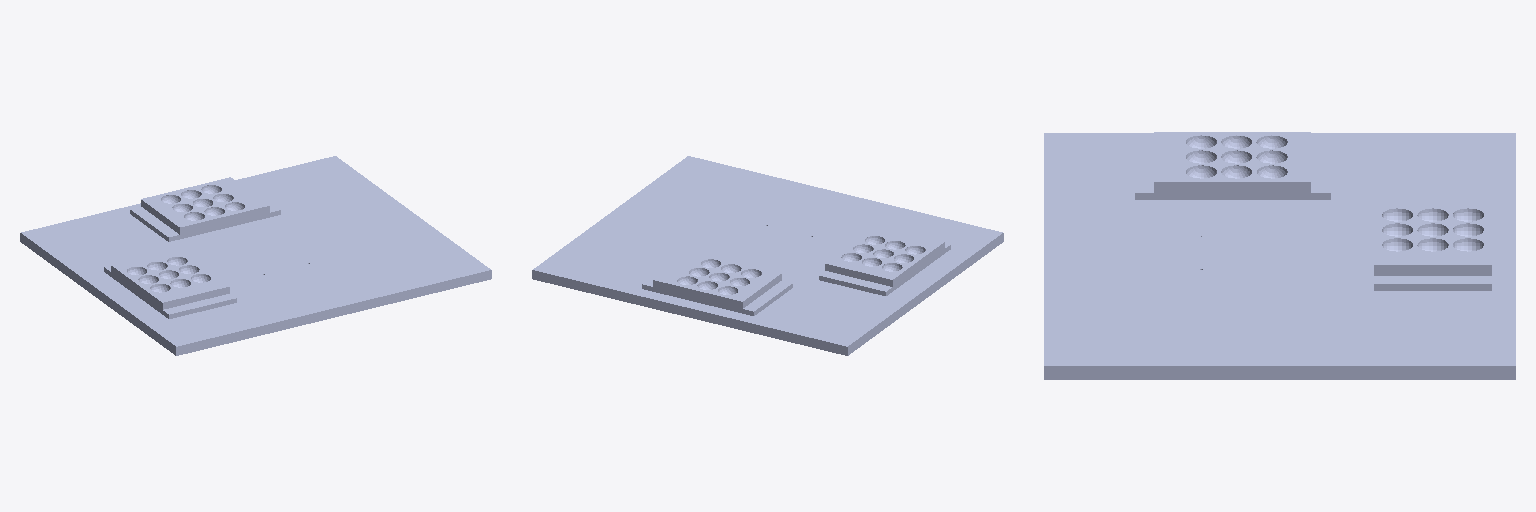
URDF robot description (URDF_tray):
<?xml version="1.0" encoding="utf-8"?>
<!-- This URDF was automatically created by SolidWorks to URDF Exporter! Originally created by Stephen Brawner (brawner@gmail.com) 
     Commit Version: 1.6.0-4-g7f85cfe  Build Version: 1.6.7995.38578
     For more information, please see http://wiki.ros.org/sw_urdf_exporter -->
<robot
  name="URDF_tray">
  <link
    name="base_link">
    <inertial>
      <origin
        xyz="0.774930516349414 -1.59041279354193 -0.0147442021379585"
        rpy="0 0 0" />
      <mass
        value="8.34945177420374" />
      <inertia
        ixx="0.25108535292824"
        ixy="0.000336731615498261"
        ixz="-5.31792297750167E-19"
        iyy="0.341858780370816"
        iyz="1.43814411420964E-17"
        izz="0.592387503180776" />
    </inertial>
    <visual>
      <origin
        xyz="0 0 0"
        rpy="0 0 0" />
      <geometry>
        <mesh
          filename="package://URDF_tray/meshes/base_link.STL" />
      </geometry>
      <material
        name="">
        <color
          rgba="0.792156862745098 0.819607843137255 0.933333333333333 1" />
      </material>
    </visual>
    <collision>
      <origin
        xyz="0 0 0"
        rpy="0 0 0" />
      <geometry>
        <mesh
          filename="package://URDF_tray/meshes/base_link.STL" />
      </geometry>
    </collision>
  </link>
  <link
    name="Tray_left">
    <inertial>
      <origin
        xyz="0.00108791408271713 0 -0.010056502763782"
        rpy="0 0 0" />
      <mass
        value="0.693053108549229" />
      <inertia
        ixx="0.00141018784716623"
        ixy="5.54909442762192E-19"
        ixz="5.61226469623594E-06"
        iyy="0.00334153571866475"
        iyz="2.40543873922961E-20"
        izz="0.00467110321129202" />
    </inertial>
    <visual>
      <origin
        xyz="0 0 0"
        rpy="0 0 0" />
      <geometry>
        <mesh
          filename="package://URDF_tray/meshes/Tray_left.STL" />
      </geometry>
      <material
        name="">
        <color
          rgba="0.792156862745098 0.819607843137255 0.933333333333333 1" />
      </material>
    </visual>
    <collision>
      <origin
        xyz="0 0 0"
        rpy="0 0 0" />
      <geometry>
        <mesh
          filename="package://URDF_tray/meshes/Tray_left.STL" />
      </geometry>
    </collision>
  </link>
  <joint
    name="Left_Tray_joint"
    type="fixed">
    <origin
      xyz="0.5492535809654 -1.65000981549943 -0.00474420213795846"
      rpy="3.14159265358979 0 -1.5707963267949" />
    <parent
      link="base_link" />
    <child
      link="Tray_left" />
    <axis
      xyz="0 0 0" />
  </joint>
  <link
    name="Front_tray">
    <inertial>
      <origin
        xyz="0.00108791408271702 0 0.010056502763782"
        rpy="0 0 0" />
      <mass
        value="0.693053108549229" />
      <inertia
        ixx="0.00141018784716623"
        ixy="-2.0212238527661E-18"
        ixz="-5.61226469623612E-06"
        iyy="0.00334153571866475"
        iyz="-9.50115083637924E-21"
        izz="0.00467110321129202" />
    </inertial>
    <visual>
      <origin
        xyz="0 0 0"
        rpy="0 0 0" />
      <geometry>
        <mesh
          filename="package://URDF_tray/meshes/Front_tray.STL" />
      </geometry>
      <material
        name="">
        <color
          rgba="0.792156862745098 0.819607843137255 0.933333333333333 1" />
      </material>
    </visual>
    <collision>
      <origin
        xyz="0 0 0"
        rpy="0 0 0" />
      <geometry>
        <mesh
          filename="package://URDF_tray/meshes/Front_tray.STL" />
      </geometry>
    </collision>
  </link>
  <joint
    name="Front_tray_joint"
    type="fixed">
    <origin
      xyz="0.7742535809654 -1.39500981549943 -0.00474420213795848"
      rpy="0 0 0" />
    <parent
      link="base_link" />
    <child
      link="Front_tray" />
    <axis
      xyz="0 0 0" />
  </joint>
</robot>

--- What the picture shows (computed from the rendered views, not written in the file) ---
3 views of the same robot in one strip: view 1: azimuth 30°, elevation 25°; view 2: azimuth 150°, elevation 25°; view 3: azimuth 270°, elevation 25° (orthographic).
Model URDF_tray with 3 links and 2 joints (2 fixed), rooted at base_link, posed all joints at 0.
Links seen in each view (by area): view 1: base_link, Front_tray, Tray_left; view 2: base_link, Front_tray, Tray_left; view 3: base_link, Tray_left, Front_tray.
Link boxes in pixels (left/top/right/bottom): base_link: left=20, top=156, right=491, bottom=355; Front_tray: left=130, top=177, right=280, bottom=241; Tray_left: left=104, top=249, right=236, bottom=318; base_link: left=532, top=156, right=1003, bottom=355; Front_tray: left=642, top=252, right=792, bottom=315; Tray_left: left=819, top=226, right=950, bottom=295; base_link: left=1044, top=133, right=1515, bottom=379; Tray_left: left=1135, top=132, right=1330, bottom=199; Front_tray: left=1374, top=199, right=1491, bottom=290.
Size in the robot's own frame: 0.7 by 0.6 by 0.045 metres.
Meshes: 3 distinct files referenced, 3 mesh visuals loaded (3 binary STL).
